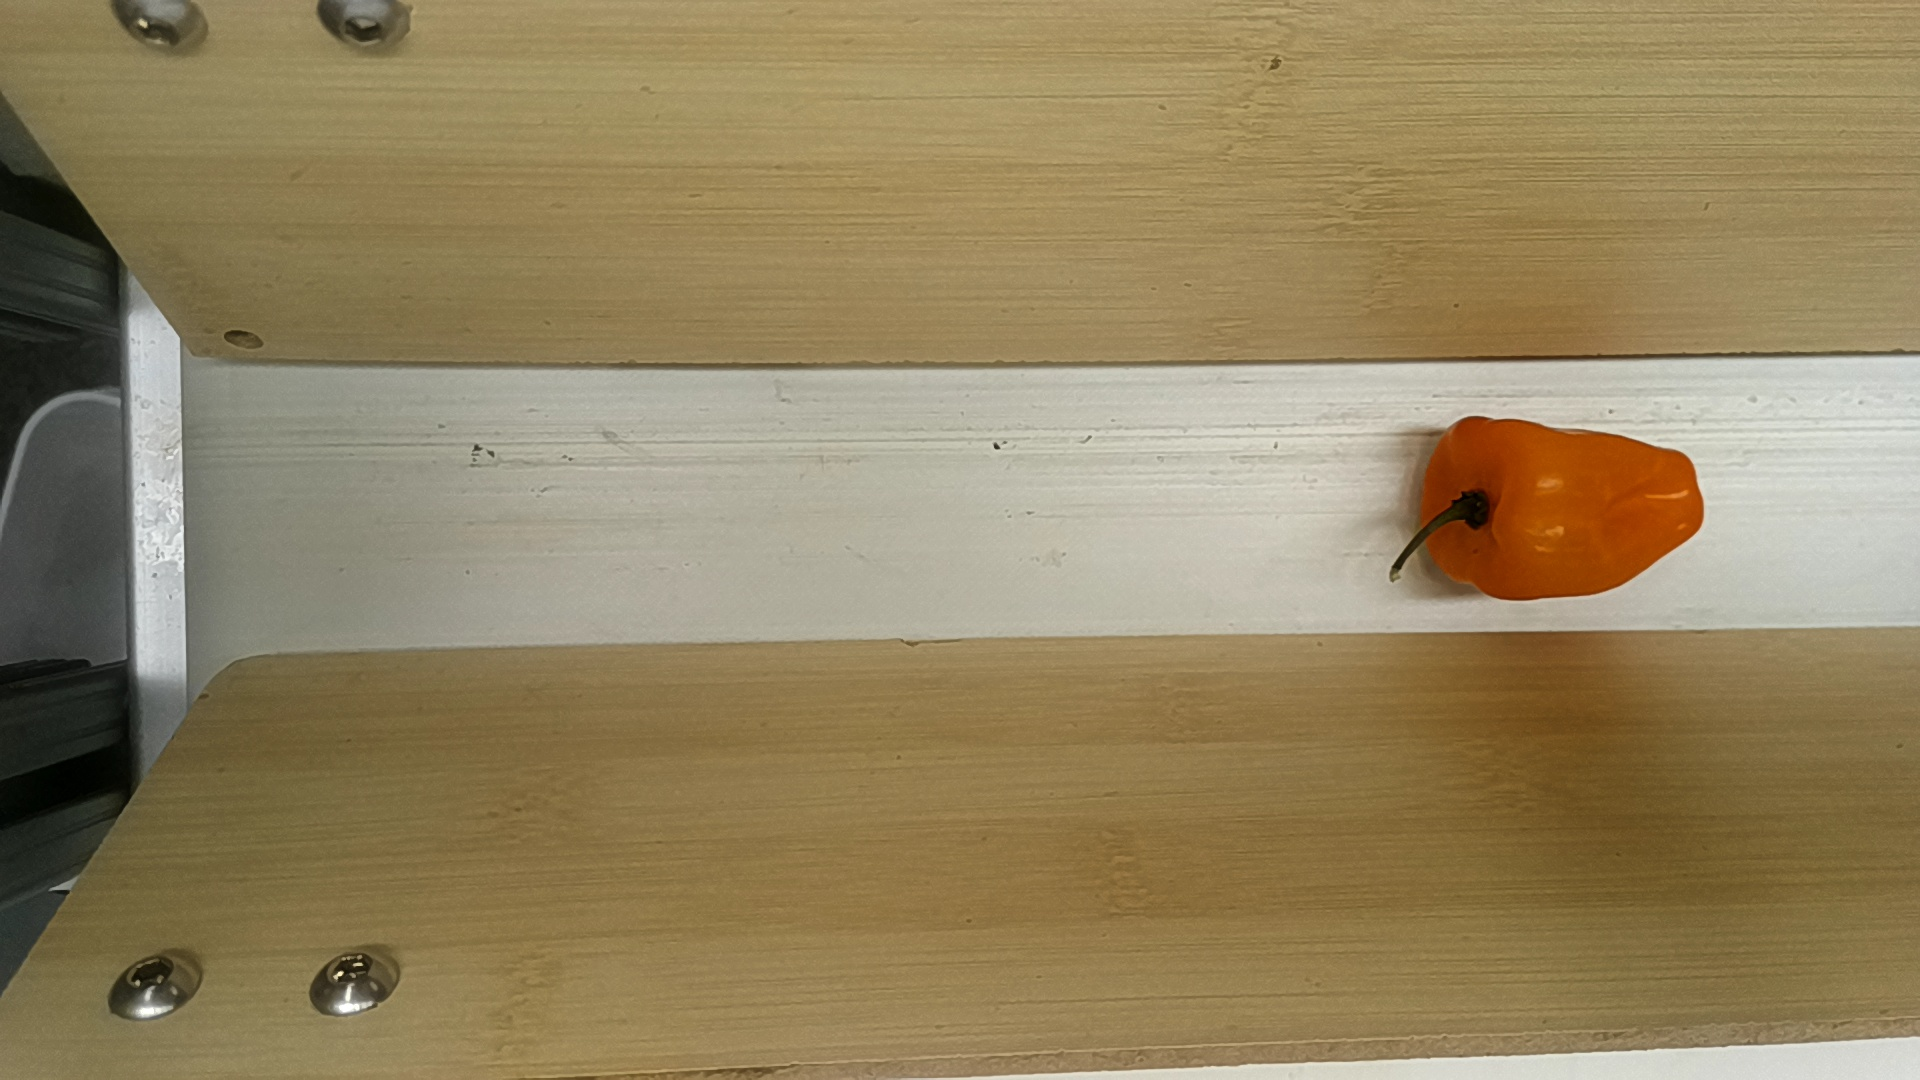Cut Point: (1447, 415, 1505, 608)
